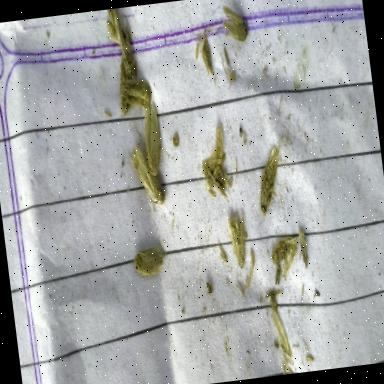pbw: (252, 140, 291, 224), (126, 142, 166, 207), (138, 100, 164, 177), (114, 48, 140, 116), (225, 212, 250, 270), (117, 72, 153, 110), (220, 1, 249, 44), (132, 245, 168, 276), (268, 234, 302, 264), (112, 9, 128, 62)
